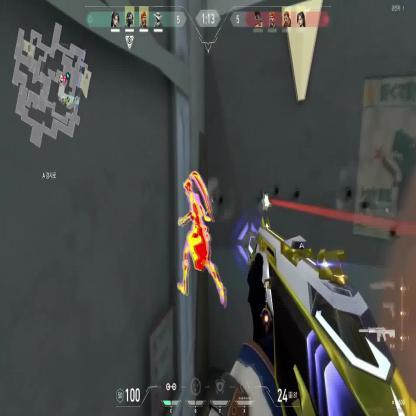enemy: (172, 174, 230, 310)
enemy_head: (183, 178, 192, 200)
